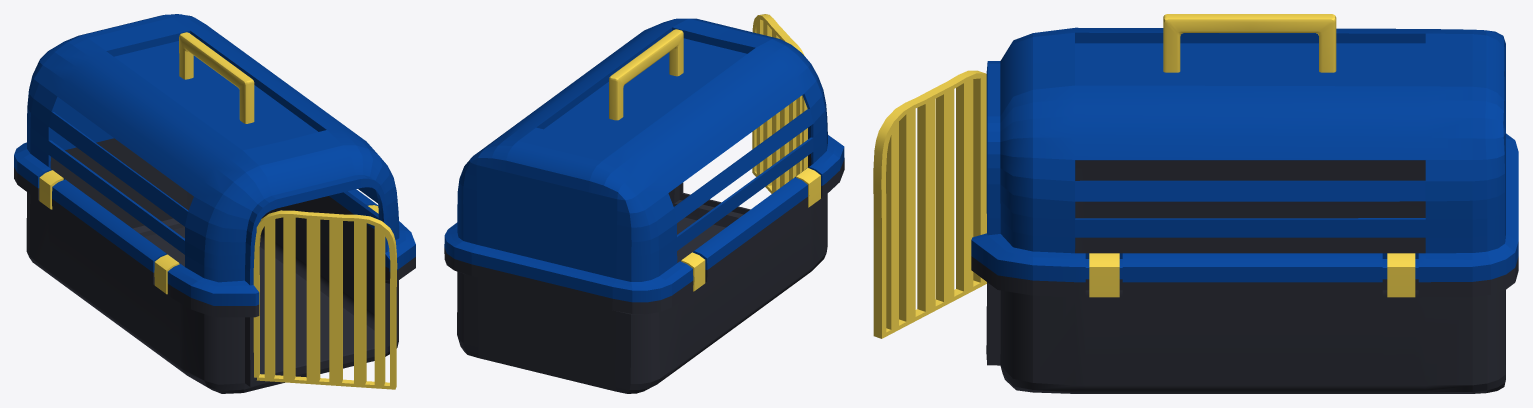
File: Pet Carrier.fbx
3 views of the same model, side by side, from view 1: azimuth 30°, elevation 25°; view 2: azimuth 150°, elevation 25°; view 3: azimuth 270°, elevation 25° (orthographic). The views are drawn at different scales.
Parts seen in each view (by area): view 1: pCube24, polySurface25, pCube20; view 2: pCube24, polySurface25, pCube20; view 3: pCube24, polySurface25, pCube20.
Boxes of the visible parts, x1=… form: pCube24: x1=14, y1=14, x2=415, y2=393; polySurface25: x1=253, y1=210, x2=397, y2=389; pCube20: x1=179, y1=32, x2=254, y2=123; pCube24: x1=444, y1=18, x2=844, y2=393; polySurface25: x1=752, y1=14, x2=807, y2=193; pCube20: x1=609, y1=29, x2=683, y2=120; pCube24: x1=971, y1=27, x2=1518, y2=393; polySurface25: x1=873, y1=70, x2=986, y2=338; pCube20: x1=1163, y1=14, x2=1336, y2=72.
Size of the model in its own units: 4.79 by 5.1 by 9.23.
Materials: 1 (1 with a texture image).
